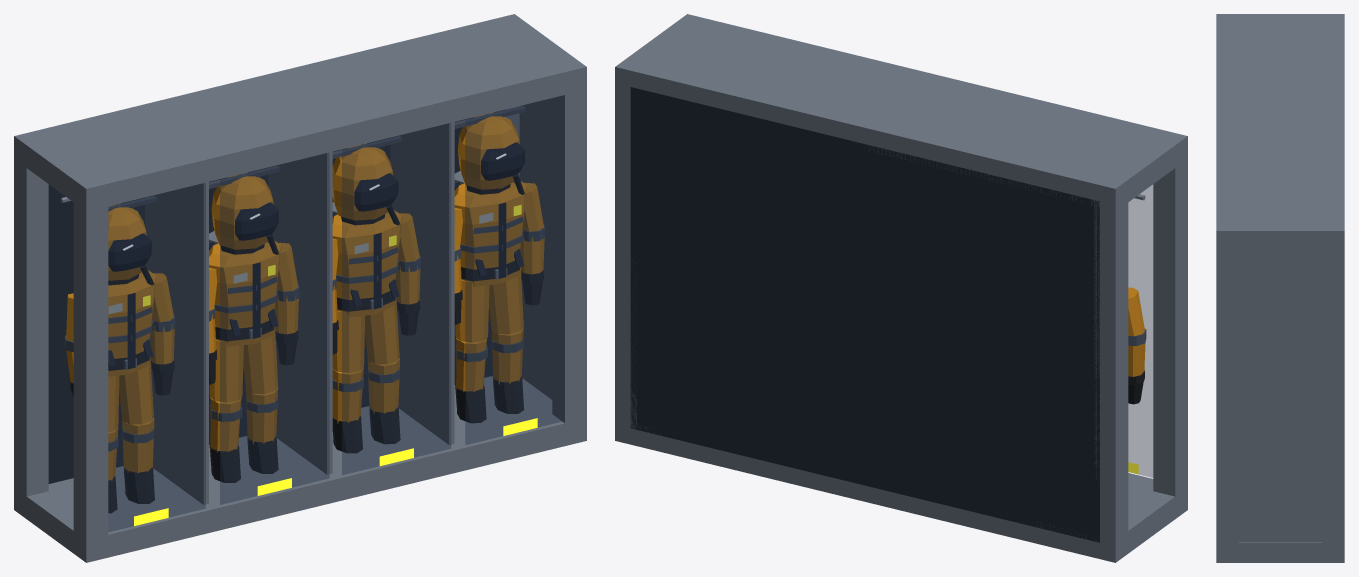
Rendered from fus_suit_locker_bank.glb.
3 renders of one model, left to right at view 1: azimuth 30°, elevation 25°; view 2: azimuth 150°, elevation 25°; view 3: azimuth 270°, elevation 25°, orthographic. The views are drawn at different scales.
Parts seen in each view (by area): view 1: belt_buckle, locker_glazing, suit_forearm, air_hose, locker_back, chest_zip_flap, hanger_bar, dosimeter_badge; view 2: locker_back, belt_buckle, locker_glazing, suit_forearm; view 3: belt_buckle.
Boxes of the visible parts, x1,y1,x2,y2 form: belt_buckle: (14,14,586,562); locker_glazing: (108,95,563,531); suit_forearm: (66,112,544,480); air_hose: (70,174,543,513); locker_back: (48,111,497,483); chest_zip_flap: (108,142,524,369); hanger_bar: (64,106,545,451); dosimeter_badge: (134,205,537,525); locker_back: (630,87,1099,542); belt_buckle: (615,14,1187,562); locker_glazing: (1128,185,1152,477); suit_forearm: (1128,287,1145,376); belt_buckle: (1216,14,1344,562).
Bounding box in the file's own units: 3.2 × 2.3 × 0.8.
